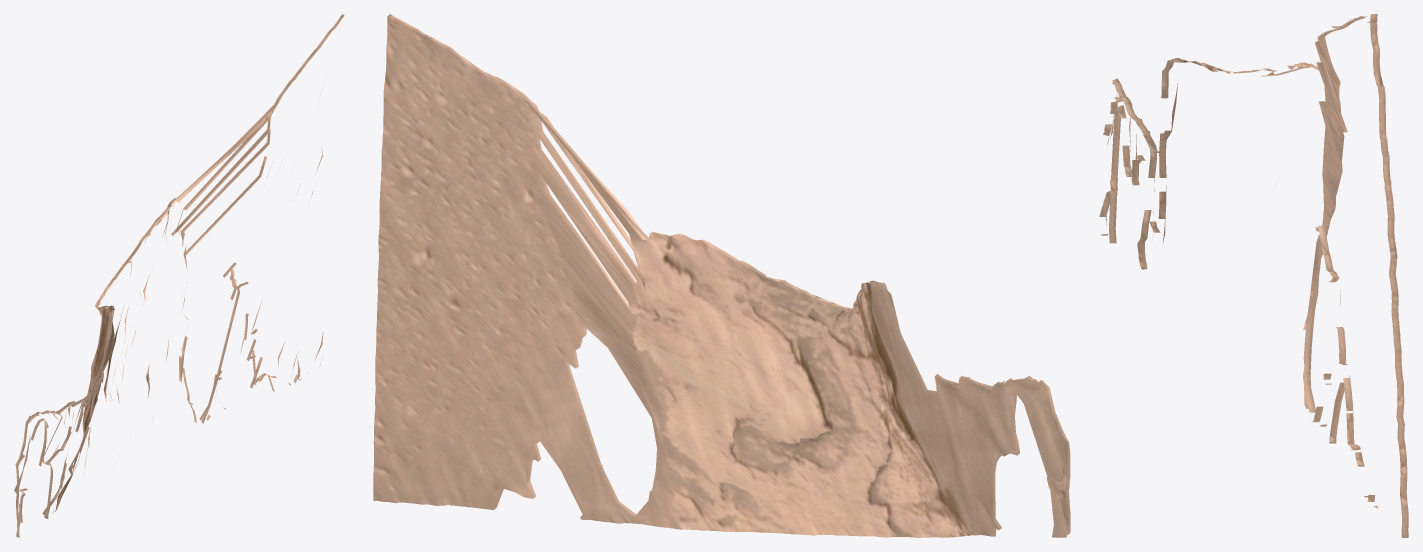
The picture shows the model from 3 angles, left to right: view 1: azimuth 30°, elevation 25°; view 2: azimuth 150°, elevation 25°; view 3: azimuth 270°, elevation 25°; orthographic projection. The views are drawn at different scales.
Bounding box in the file's own units: 1.04 × 0.849 × 0.4546.
1 material, 1 textured.
